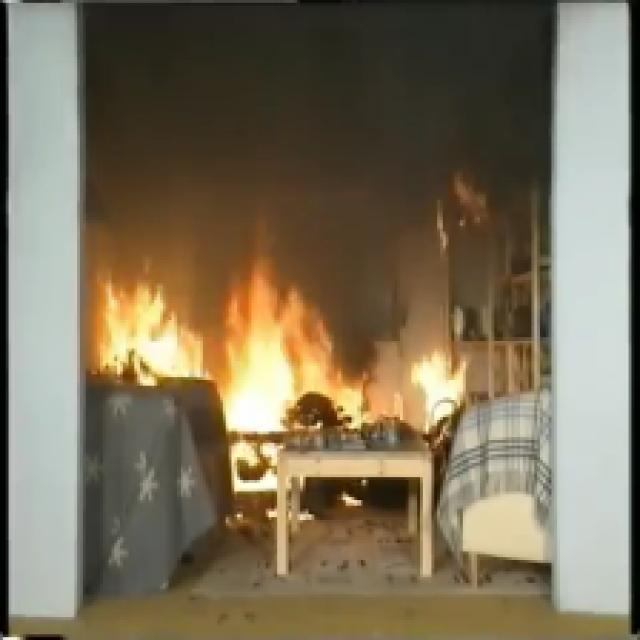Fire: (106, 277, 463, 439)
